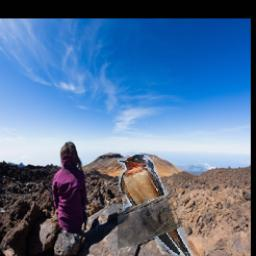Swallow: (119, 154, 203, 256)
